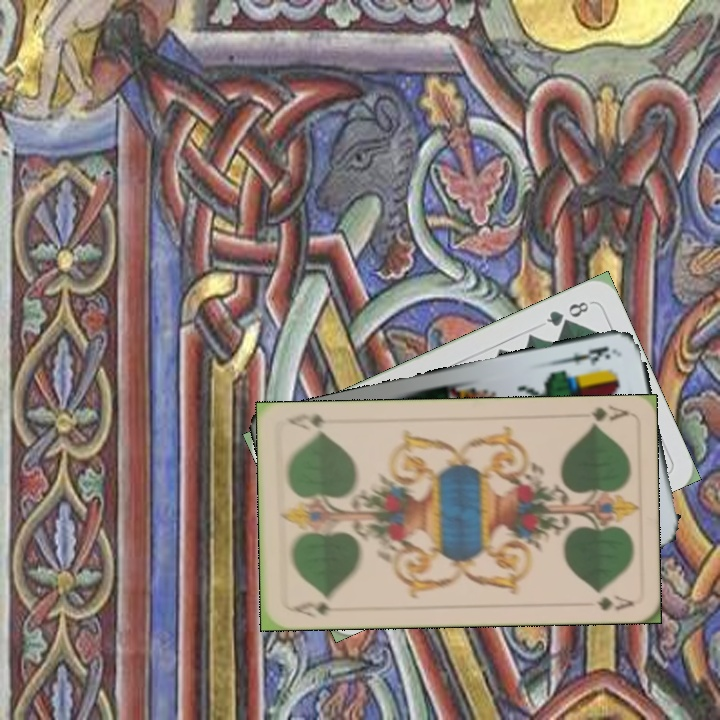EK: (558, 342, 617, 368)
G8: (542, 297, 592, 329)
GA: (285, 597, 344, 621), (587, 402, 630, 430)
